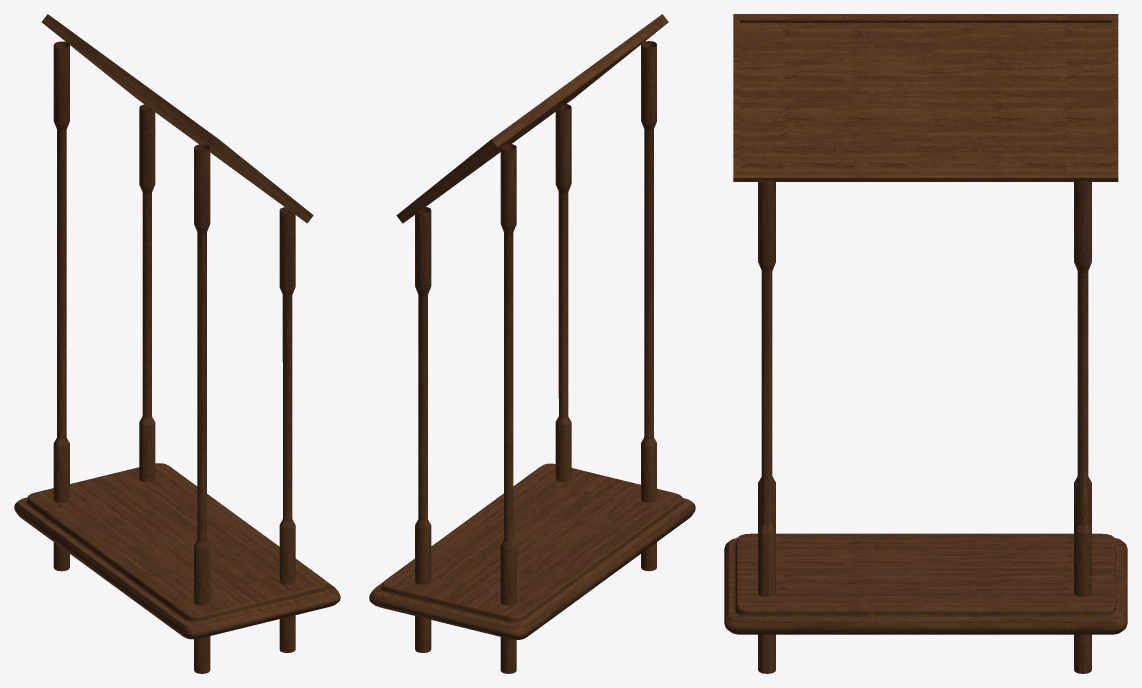
3 views of the same model, side by side, from view 1: azimuth 30°, elevation 25°; view 2: azimuth 150°, elevation 25°; view 3: azimuth 270°, elevation 25° (orthographic). The views are drawn at different scales.
Visible parts, largest first — view 1: 书架; view 2: 书架; view 3: 书架.
Part boxes in pixels (x1,y1,x2,y2): 书架: (14, 14, 340, 673); 书架: (369, 14, 695, 673); 书架: (724, 14, 1127, 673).
Size of the model in its own units: 359 by 1196 by 717.
